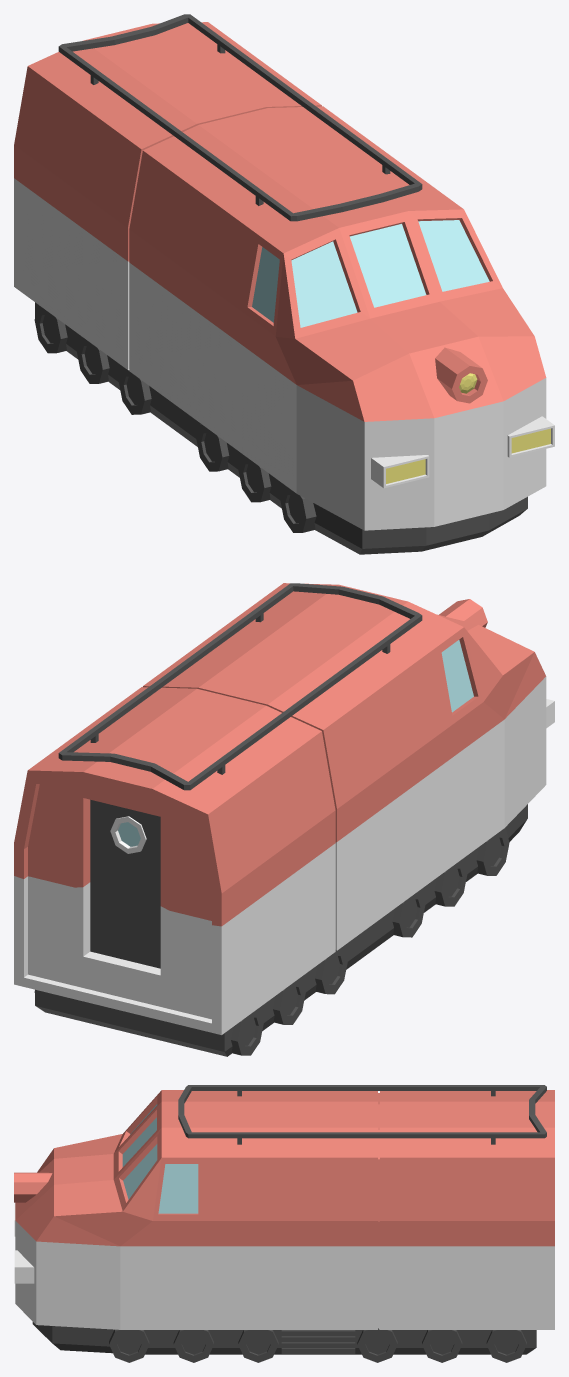
File: Train_01.gltf
3 views of the same model, one above another, from view 1: azimuth 30°, elevation 25°; view 2: azimuth 150°, elevation 25°; view 3: azimuth 270°, elevation 25° (orthographic). The views are drawn at different scales.
Visible parts, largest first — view 1: node-0; view 2: node-0; view 3: node-0.
Part boxes in pixels (bbox=[...]): node-0: bbox=[14, 14, 554, 554]; node-0: bbox=[14, 583, 554, 1056]; node-0: bbox=[14, 1085, 554, 1362].
Bounding box in the file's own units: 7.52 × 9.79 × 22.08.
